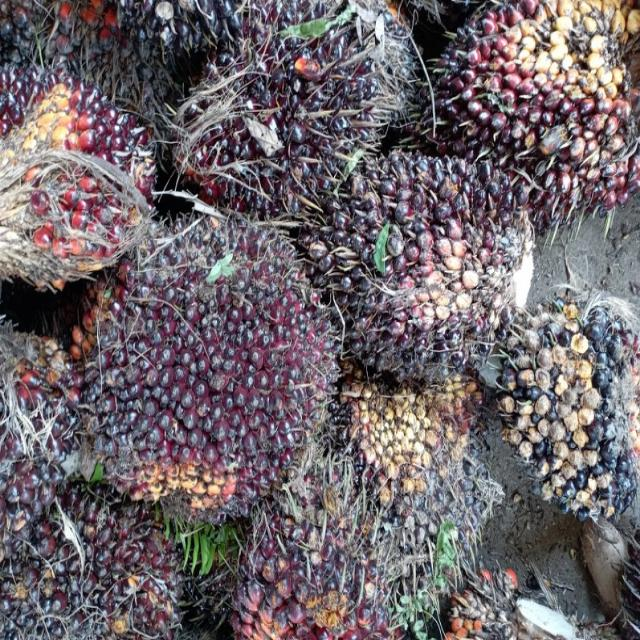fraksi 1: (309, 78, 532, 398)
